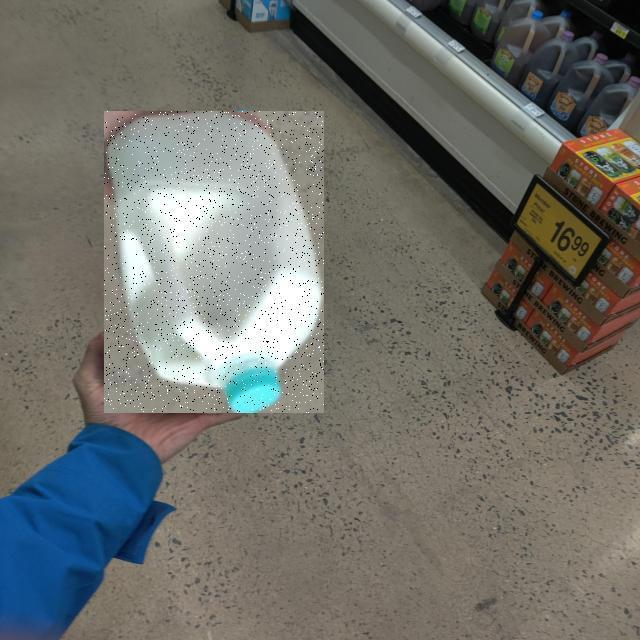milk: (0, 206, 268, 620)
